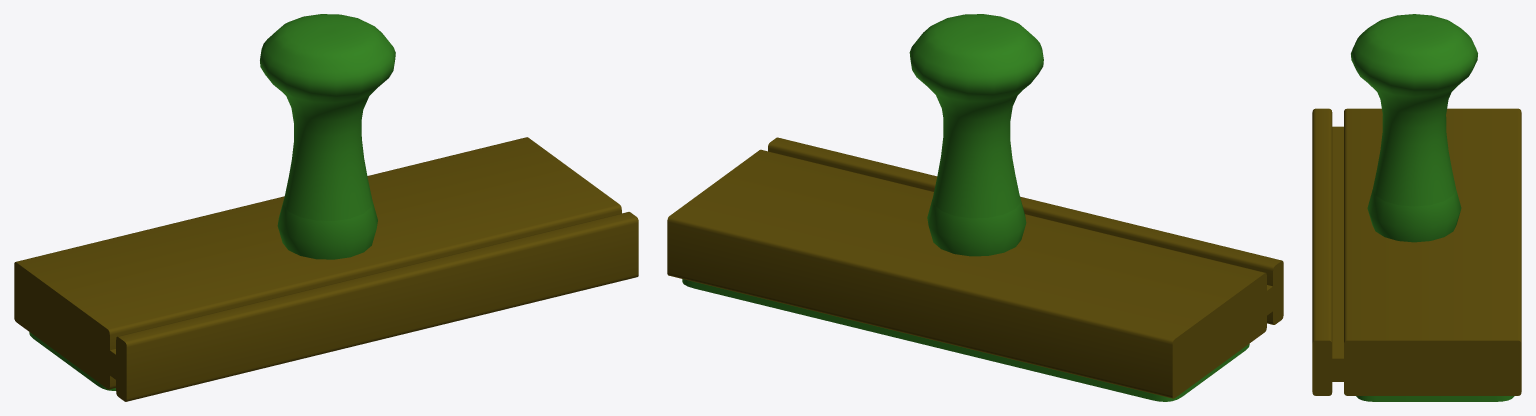
File: ApprovedStamp.FBX
3 views of the same model, side by side, from view 1: azimuth 30°, elevation 25°; view 2: azimuth 150°, elevation 25°; view 3: azimuth 270°, elevation 25° (orthographic). The views are drawn at different scales.
Visible parts, largest first — view 1: Object002, Object001; view 2: Object002, Object001, Object003; view 3: Object002, Object001, Object003.
Boxes of the visible parts, x1=… form: Object002: x1=14, y1=137, x2=638, y2=401; Object001: x1=260, y1=14, x2=395, y2=259; Object002: x1=667, y1=137, x2=1283, y2=398; Object001: x1=909, y1=14, x2=1043, y2=256; Object003: x1=682, y1=279, x2=1249, y2=401; Object002: x1=1312, y1=108, x2=1521, y2=395; Object001: x1=1351, y1=14, x2=1477, y2=242; Object003: x1=1356, y1=396, x2=1514, y2=401.
Size of the model in its own units: 132 by 68.77 by 50.18.
